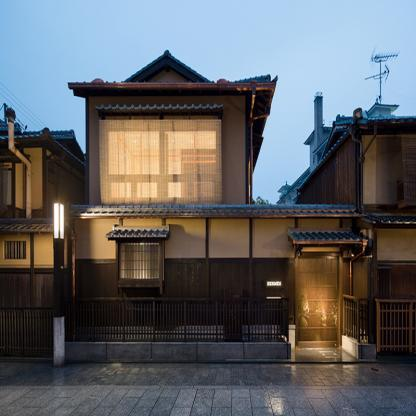Blind: (119, 240, 160, 281)
Building Outline: (67, 49, 369, 348)
Door: (299, 257, 339, 348)
Facade: (85, 90, 249, 348)
Floor Slab: (85, 200, 249, 204)
Ground Floor: (72, 219, 354, 348)
Roof: (68, 49, 278, 90), (67, 202, 362, 219), (287, 227, 369, 246), (95, 104, 224, 114), (106, 224, 170, 242)
Top Floor: (85, 90, 249, 200)
Window: (163, 129, 217, 200), (107, 129, 161, 200), (119, 240, 160, 281)
Window Outline: (115, 240, 163, 294)
